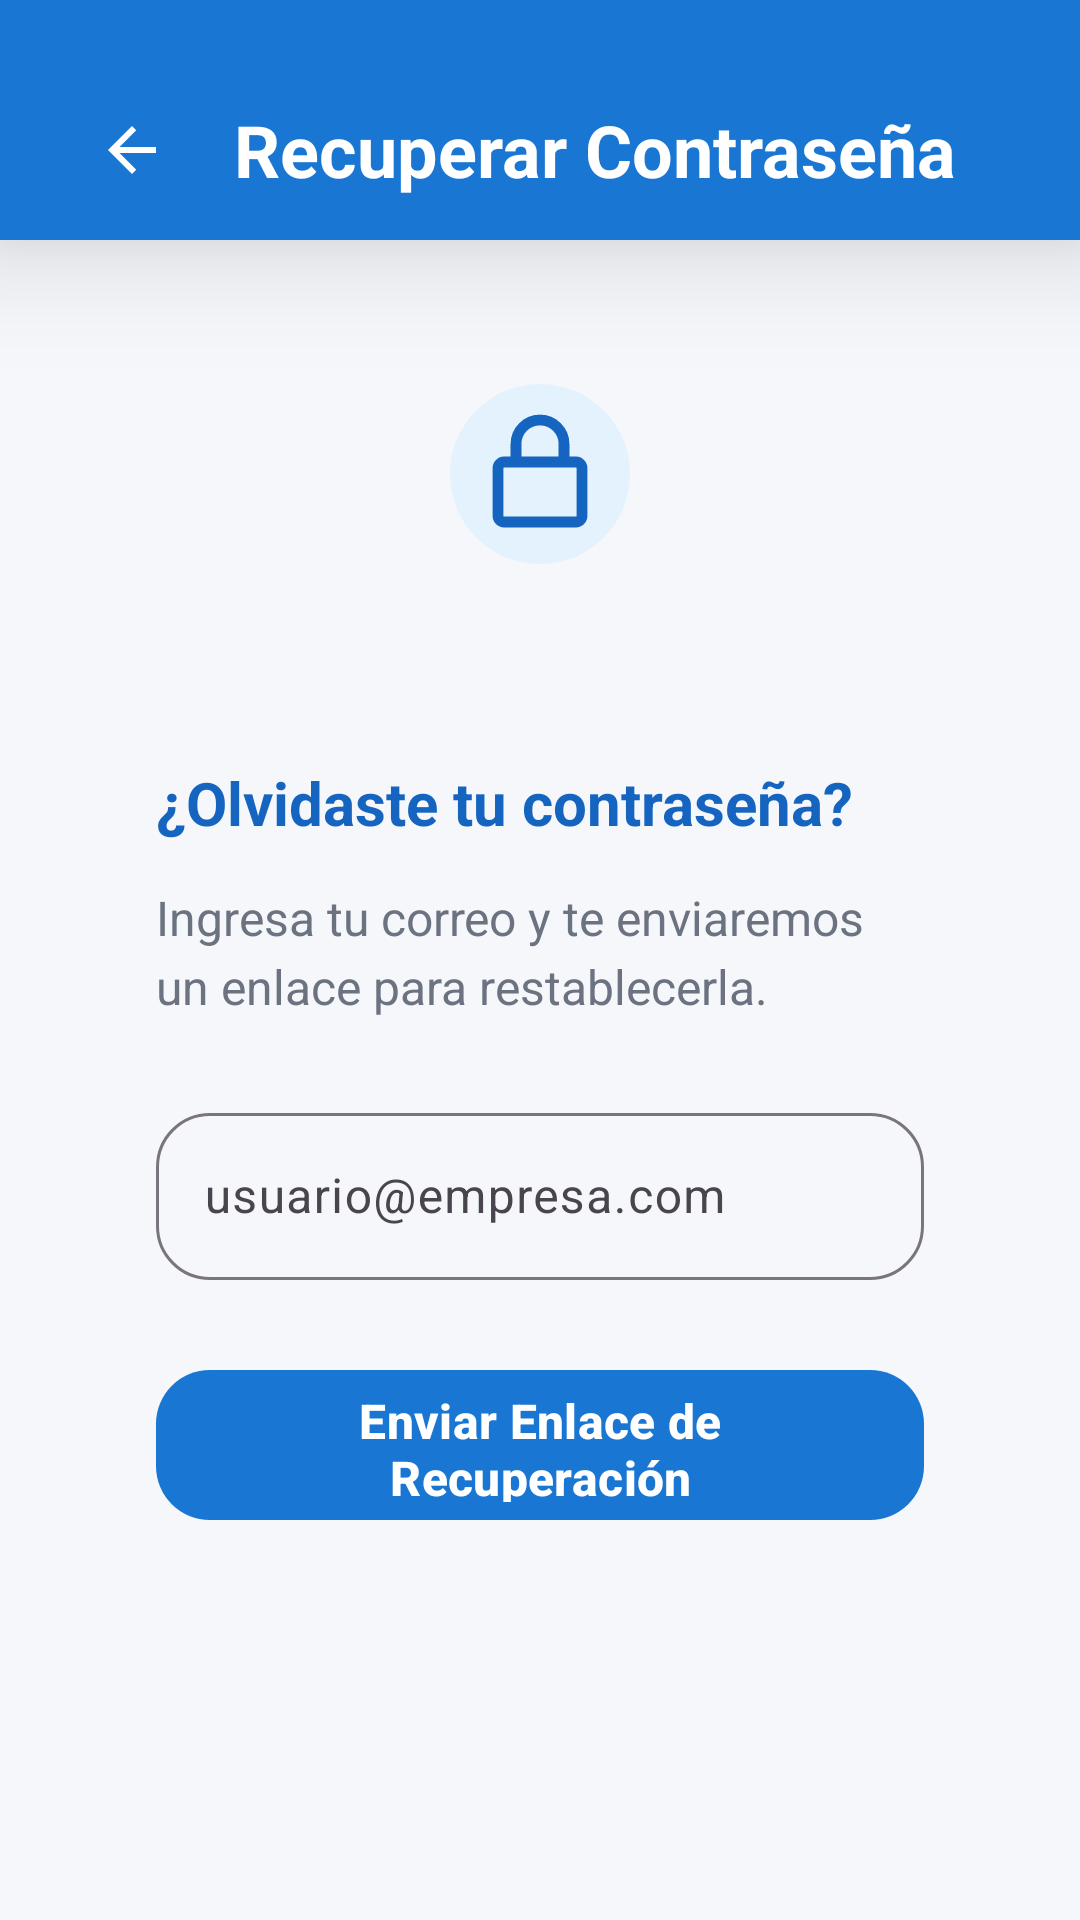

Icon click points for this 1080px x 1920px phone screenshot, format (x=x, y=y):
lock: (x=540, y=471)
Volver: (x=132, y=150)
